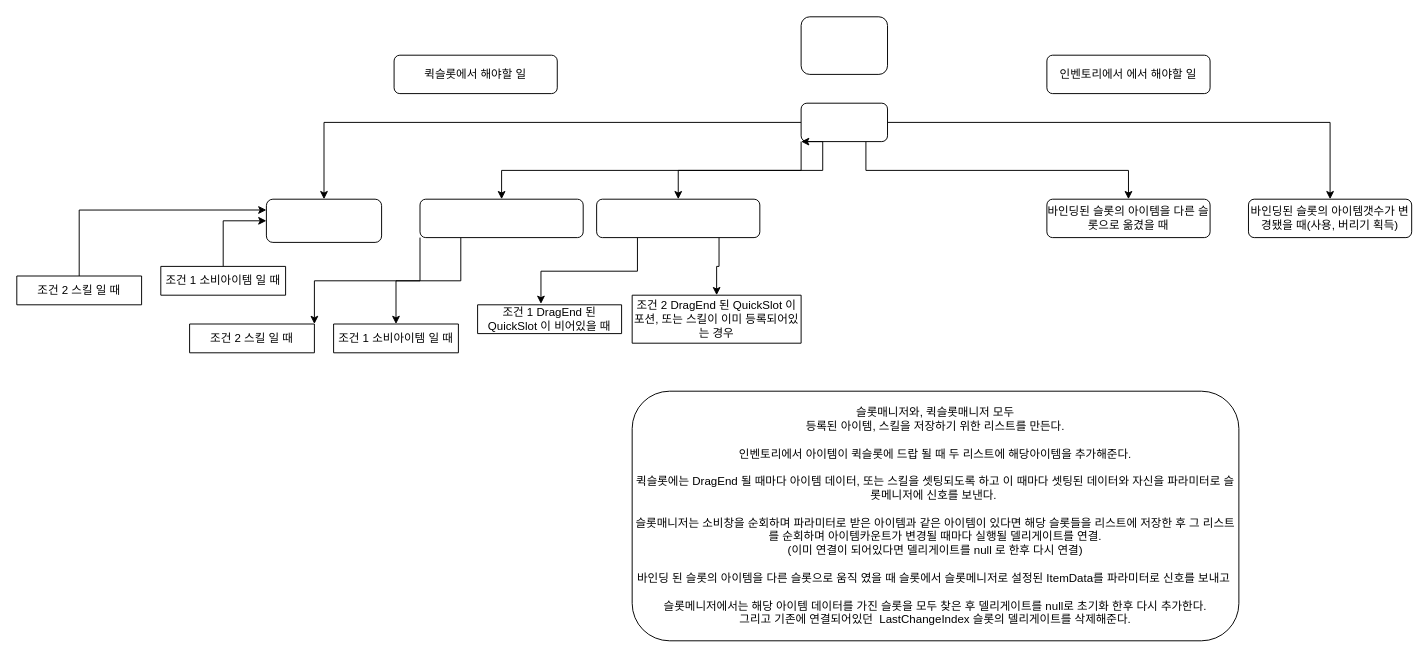
Image size: 1428x658. Some labels were removed from this diagram. The centre of each missing label's shape, as x and y in pixels:
"기능 퀵슬롯" belongs at (x=844, y=45).
"드래그가 끝났을 때" belongs at (x=678, y=218).
"상태, Action" belongs at (x=844, y=122).
"인벤토리에서 퀵슬롯에 드롭될 때" belongs at (x=323, y=220).
"퀵슬롯에서 드래그를 시작할 때" belongs at (x=501, y=218).
